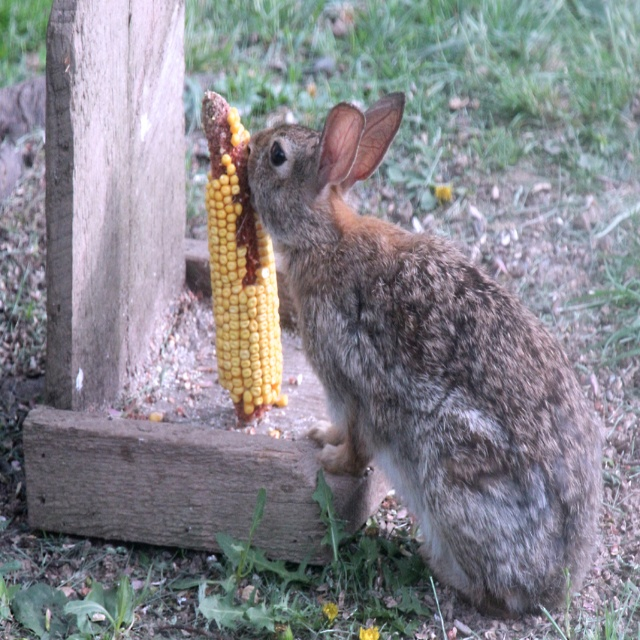Rabbit: (246, 90, 607, 618)
